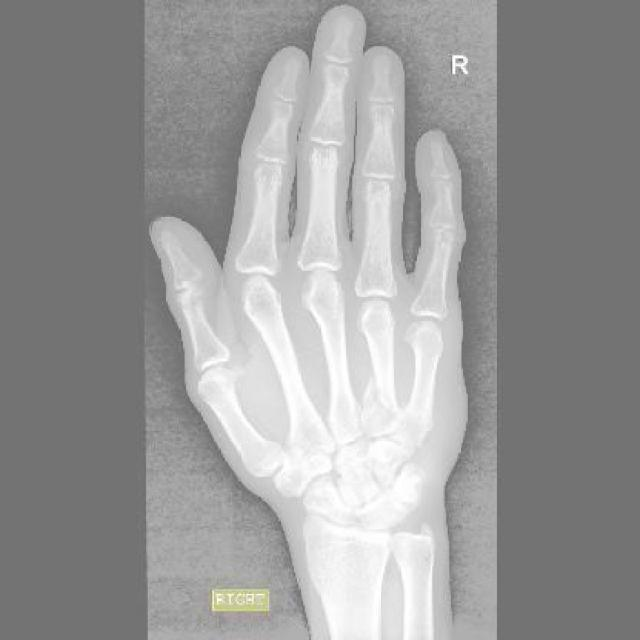Fracture: (362, 373, 407, 422), (396, 400, 436, 437)
